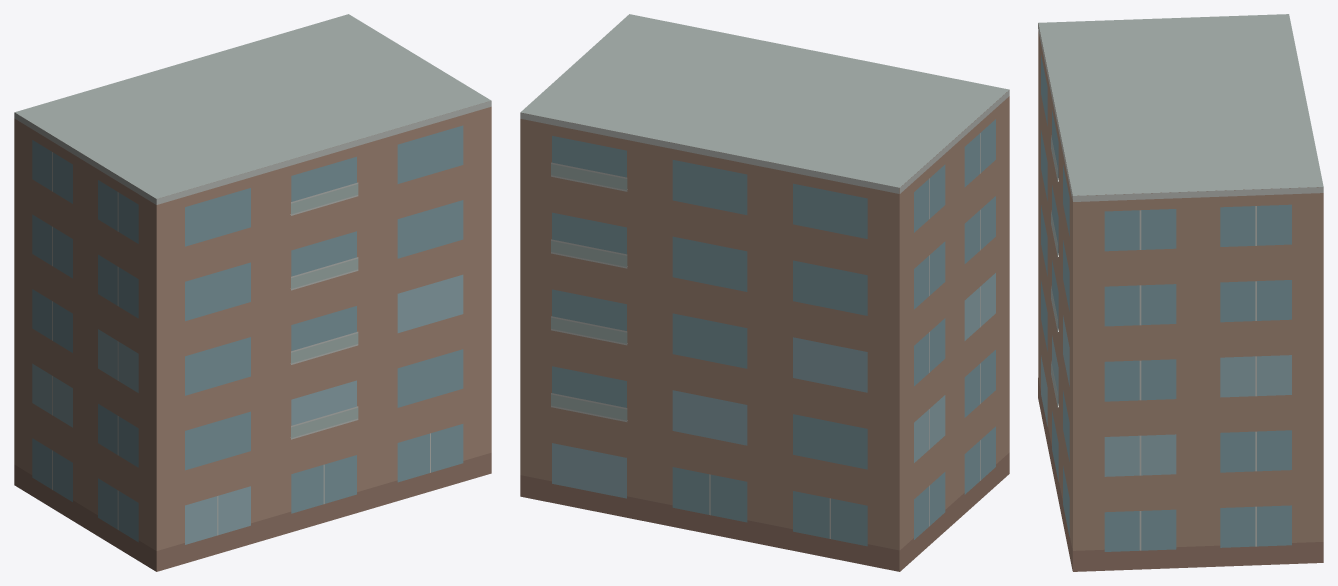
File: survey-upis-32731933.glb
3 renders of one model, left to right at view 1: azimuth 30°, elevation 25°; view 2: azimuth 150°, elevation 25°; view 3: azimuth 270°, elevation 25°, orthographic. The views are drawn at different scales.
Parts seen in each view (by area): view 1: survey-upis-32731933.tmp; view 2: survey-upis-32731933.tmp; view 3: survey-upis-32731933.tmp.
Part boxes in pixels (<box>): survey-upis-32731933.tmp: <box>14,14,491,571</box>; survey-upis-32731933.tmp: <box>520,14,1009,571</box>; survey-upis-32731933.tmp: <box>1038,14,1323,571</box>.
Size of the model in its own units: 15.47 by 14.9 by 10.26.
